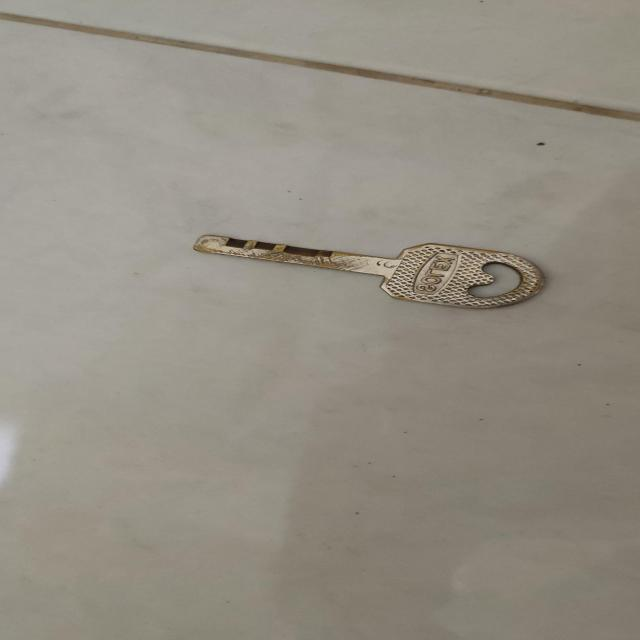kunci_pagar: (170, 223, 556, 314)
